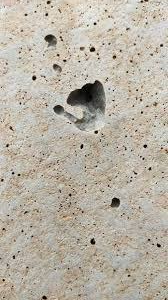Spalling: (1, 1, 168, 300), (52, 79, 107, 132)
